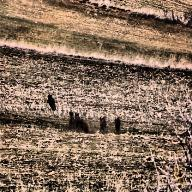boar: (96, 114, 110, 136), (47, 89, 56, 119), (67, 110, 77, 132)
